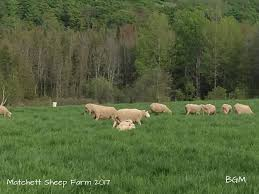sheep: (113, 107, 151, 126), (90, 104, 117, 121), (118, 119, 142, 135), (150, 101, 172, 118), (234, 100, 254, 118), (184, 103, 203, 119), (1, 102, 16, 120), (201, 103, 215, 118), (220, 105, 234, 117)
